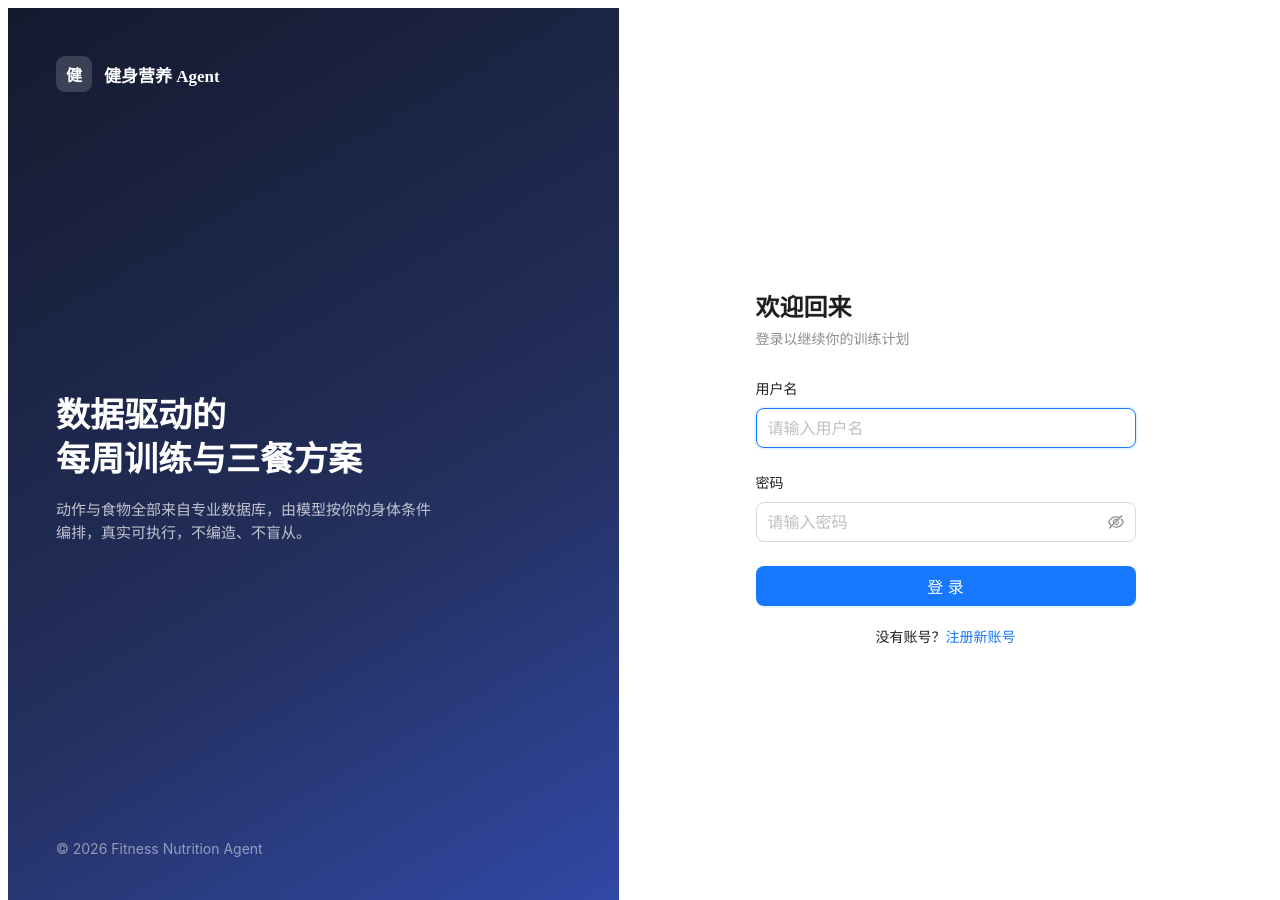
Login › submits and shows error on wrong password
Type "alice" into the field labelled "用户名". click: (946,428)
box: [756, 408, 1136, 448]
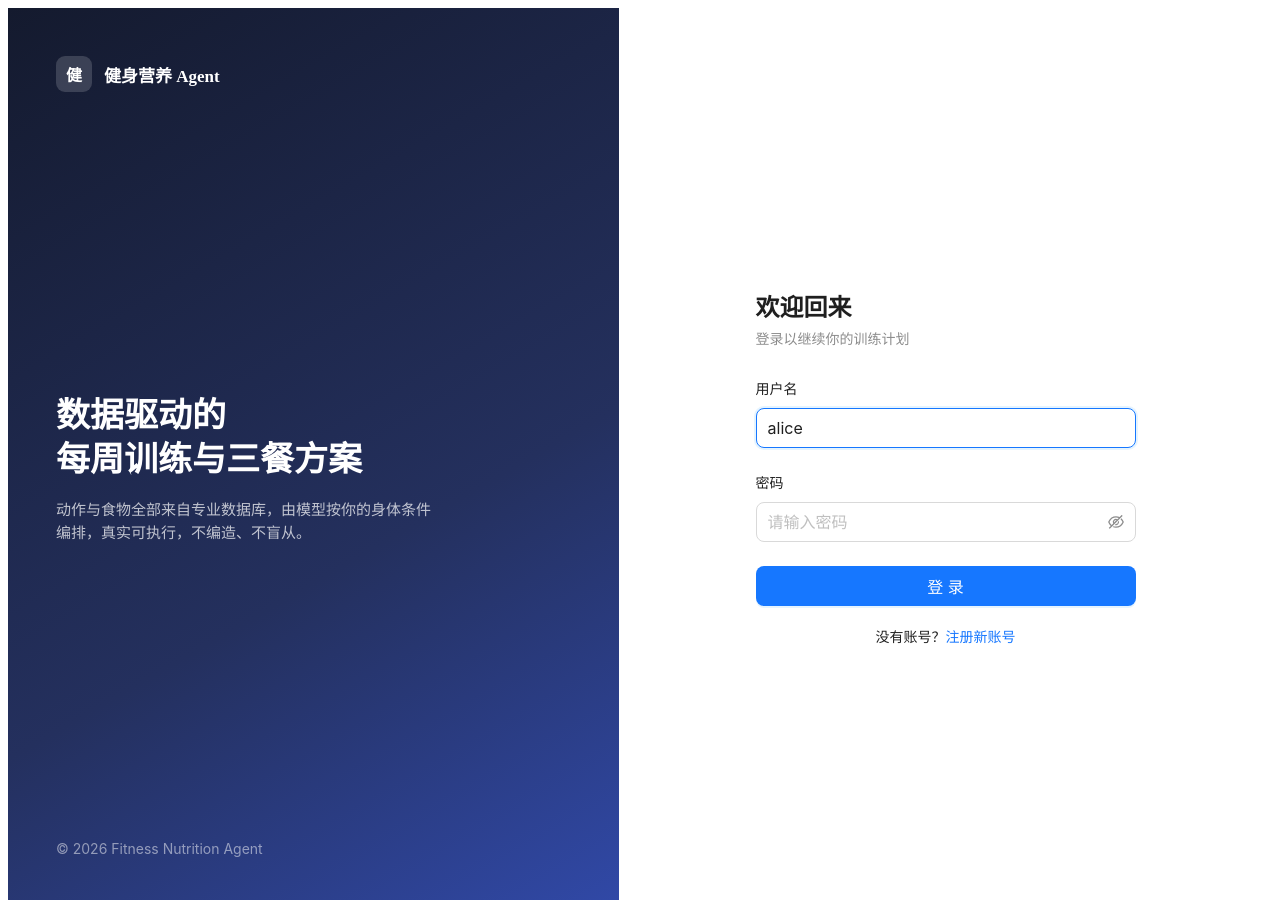
Type "wrongpass" into the password field labelled "密码". click: (936,522)
box: [768, 510, 1104, 534]
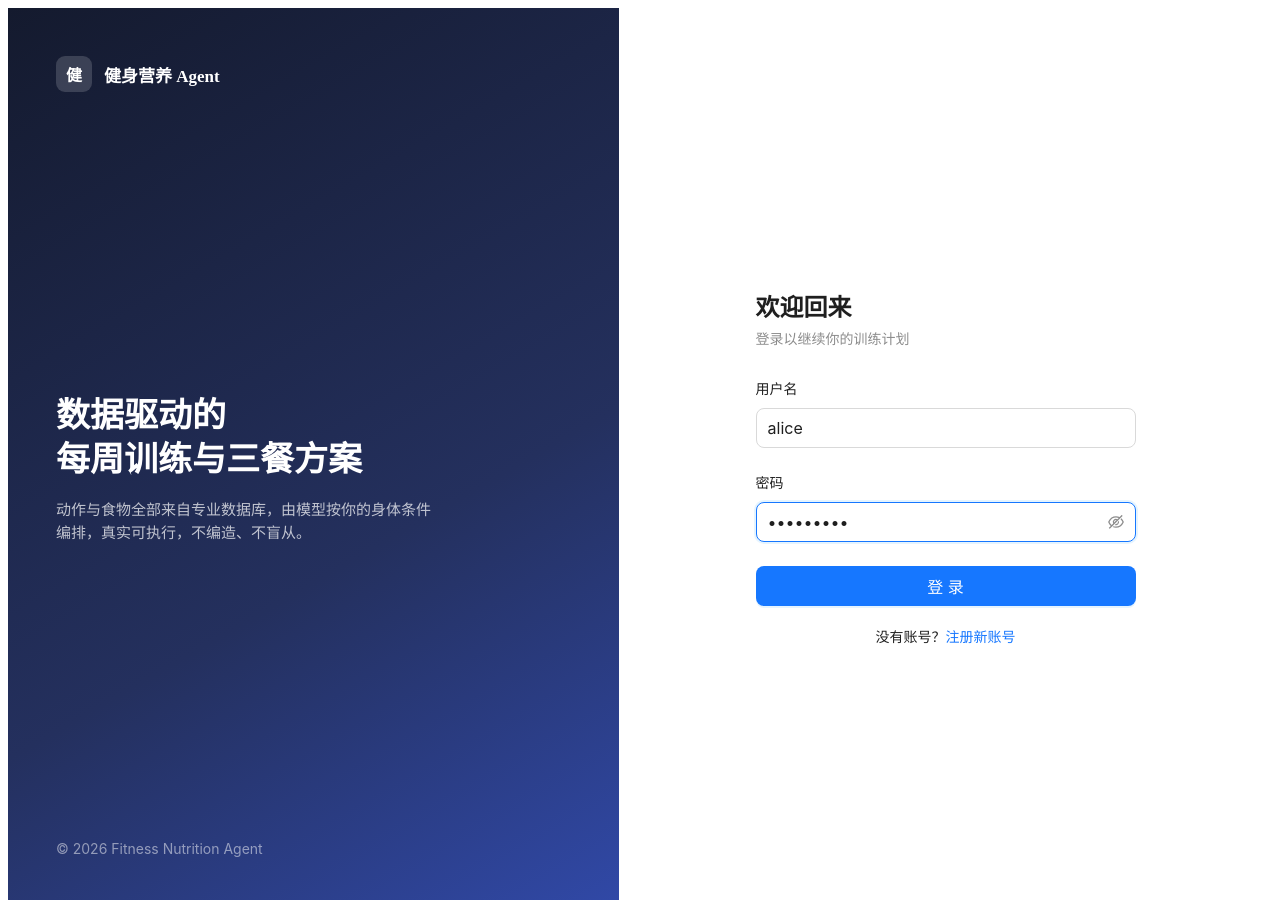
Click the button "登 录". click: (946,586)
box: [756, 566, 1136, 606]
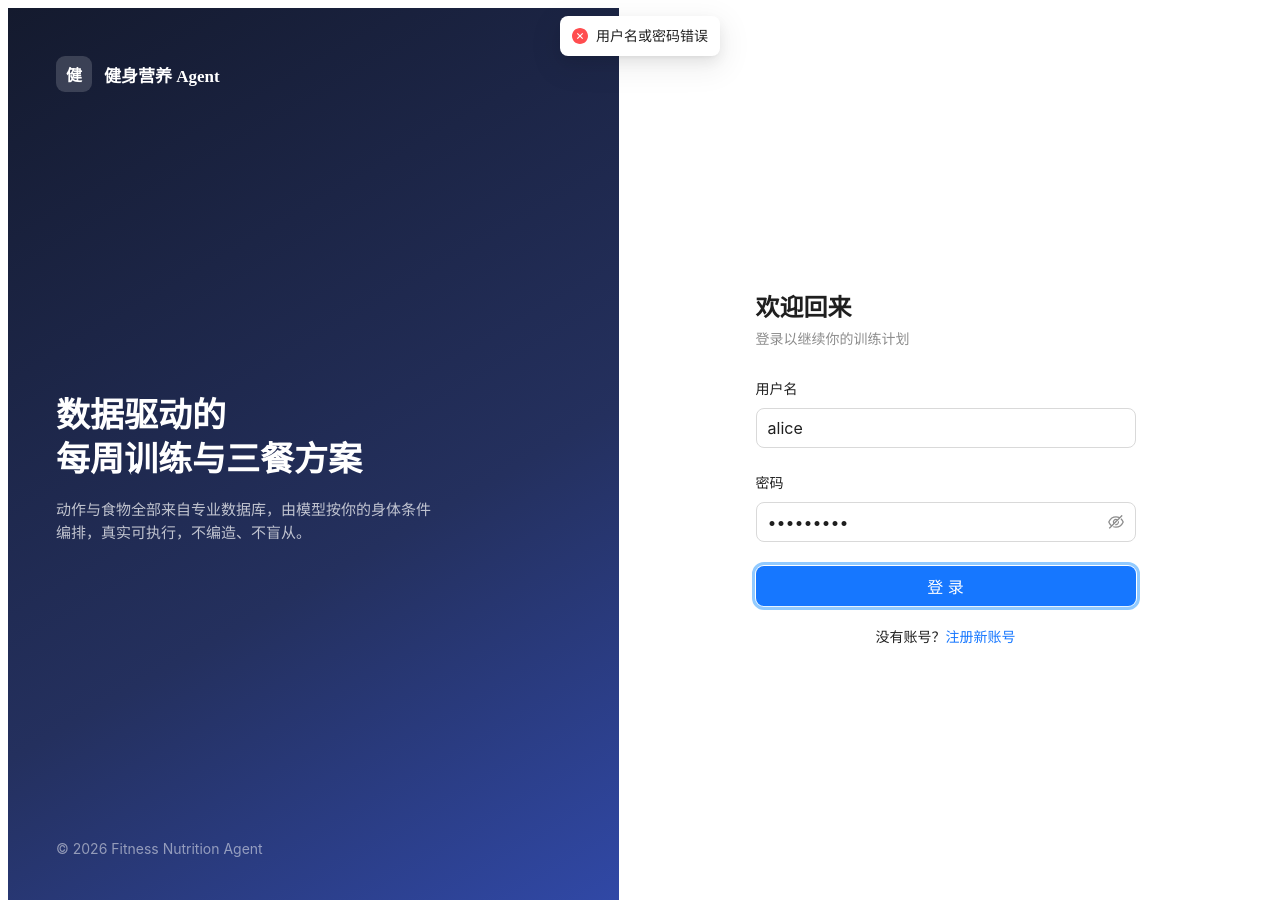
Expected: the text "用户名或密码错误" is shown, [596, 25, 708, 47]
